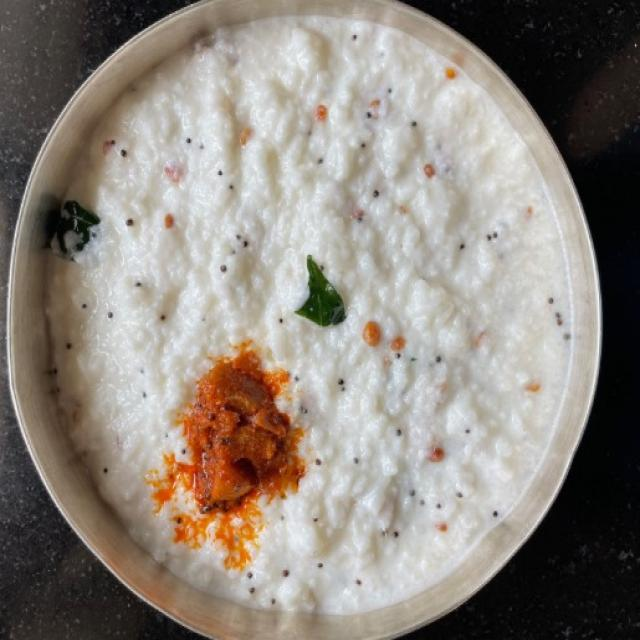CURD RICE: (50, 10, 577, 617)
